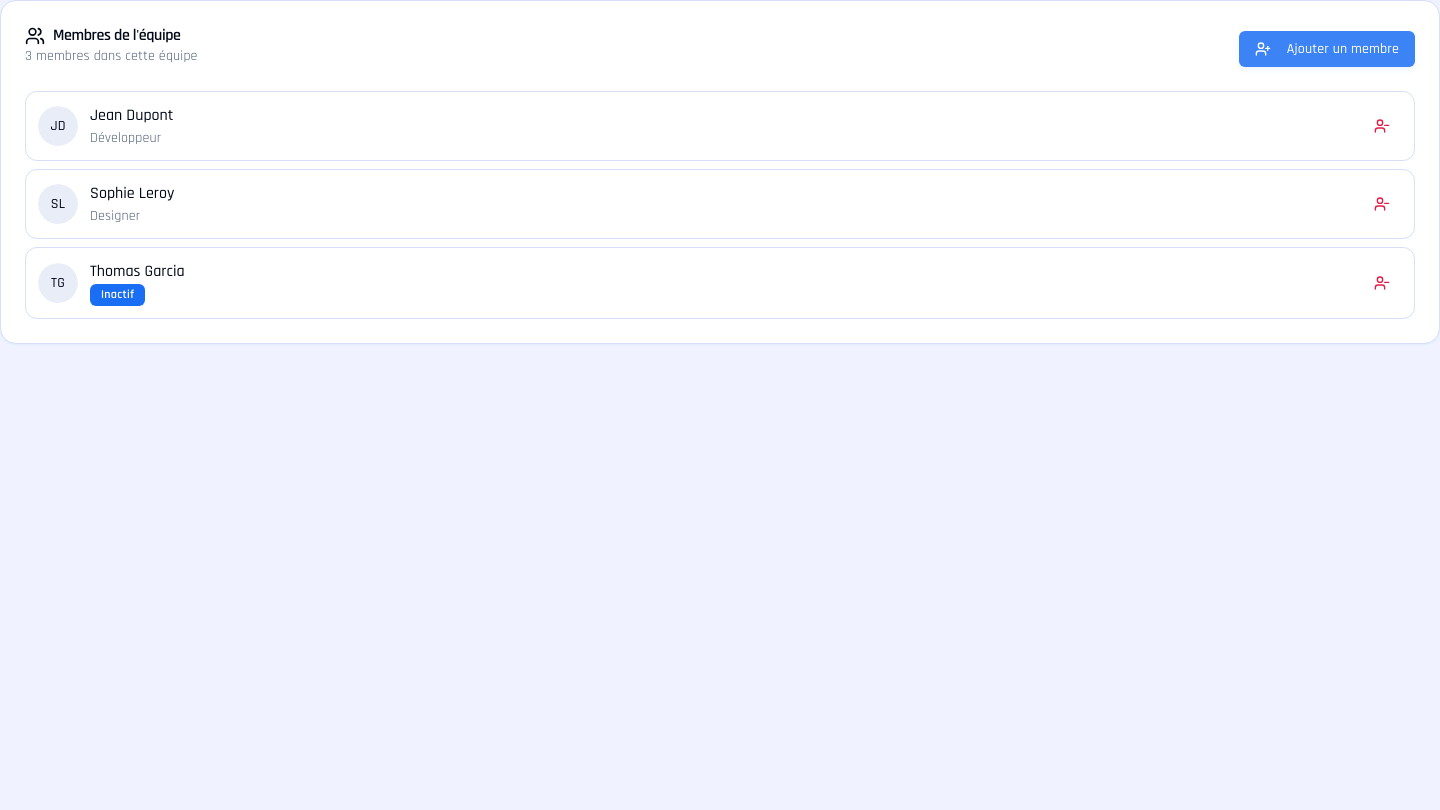
Test case: TeamMembersManager › Suppression de membre › affiche le dialog de confirmation au clic sur retirer
Click the button without text in the row of "Jean Dupont" at point(1382, 126), box [1362,110,1402,142]
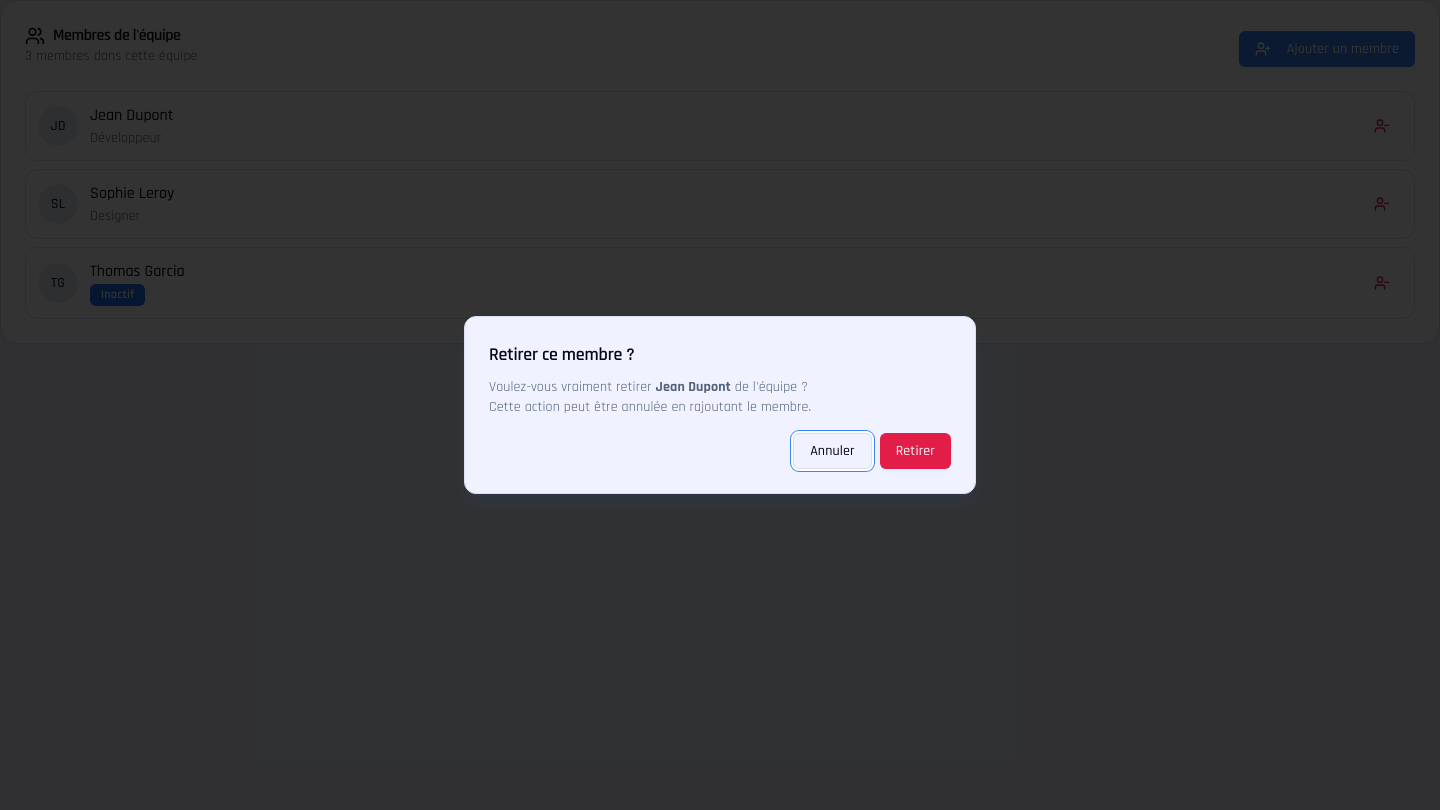
Now the heading "Retirer ce membre ?" is shown, box [489,343,635,366]
